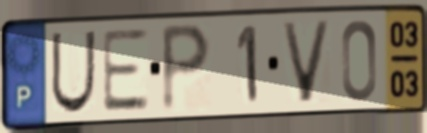0: (339, 16, 380, 104)
1: (233, 22, 260, 107)
E: (99, 26, 152, 116)
P: (159, 21, 214, 116)
U: (48, 28, 98, 117)
V: (278, 18, 335, 106)
